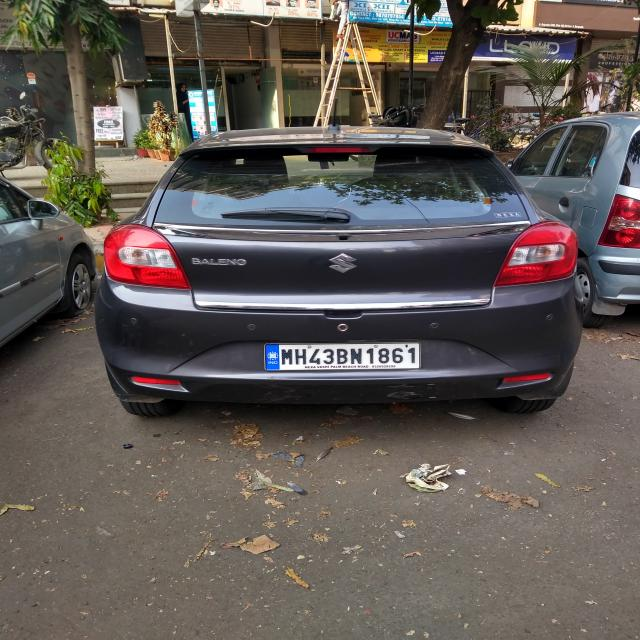Number-Plate: (272, 342, 416, 370)
